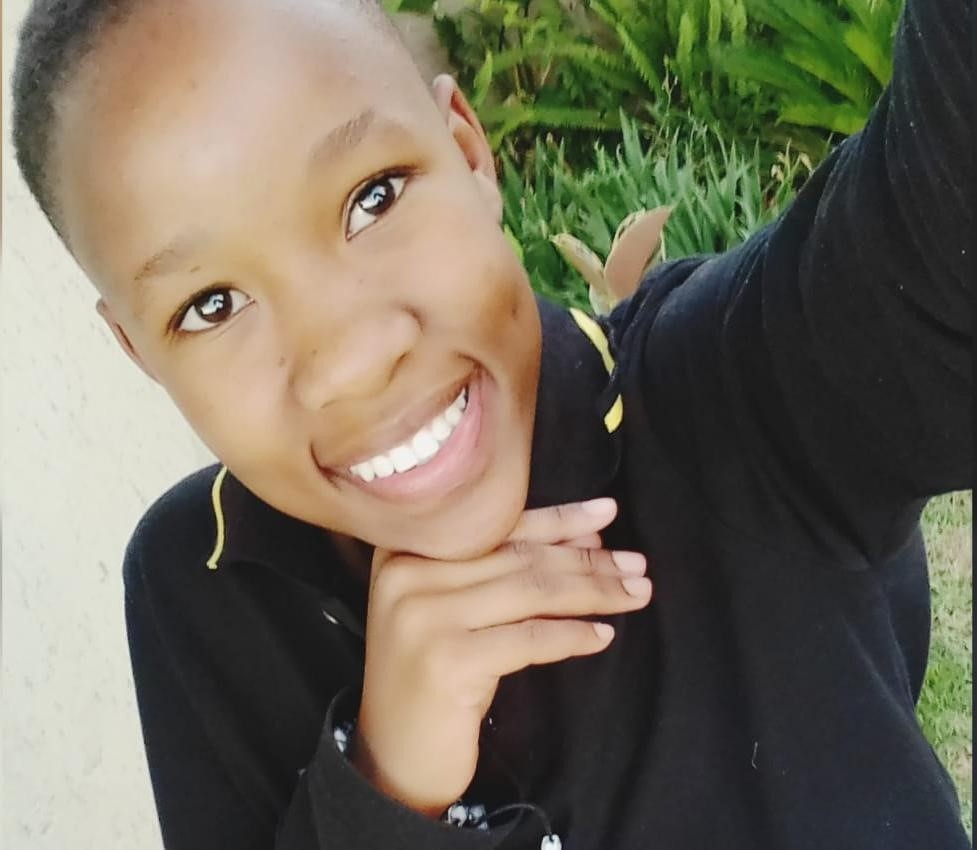face_no_mask: (47, 5, 552, 564)
